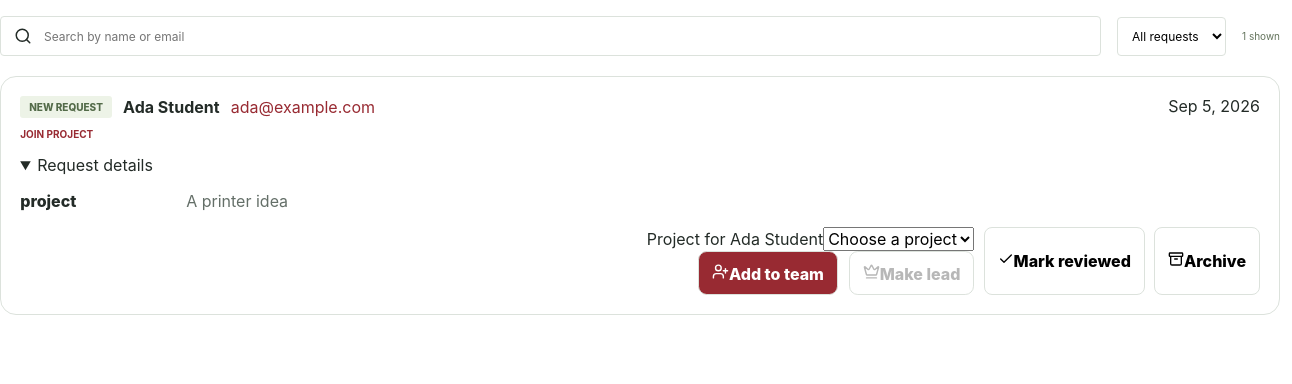
does not guess the project for unmatched interest and keeps failed approvals available
The image size is (1292, 384).
Expected: the button "Add to team" is disabled, x1=698 y1=251 x2=838 y2=295
Select "Printer repair" in the dropdown labelled "Project for Ada Student" at [899, 239], box x1=823 y1=227 x2=974 y2=251
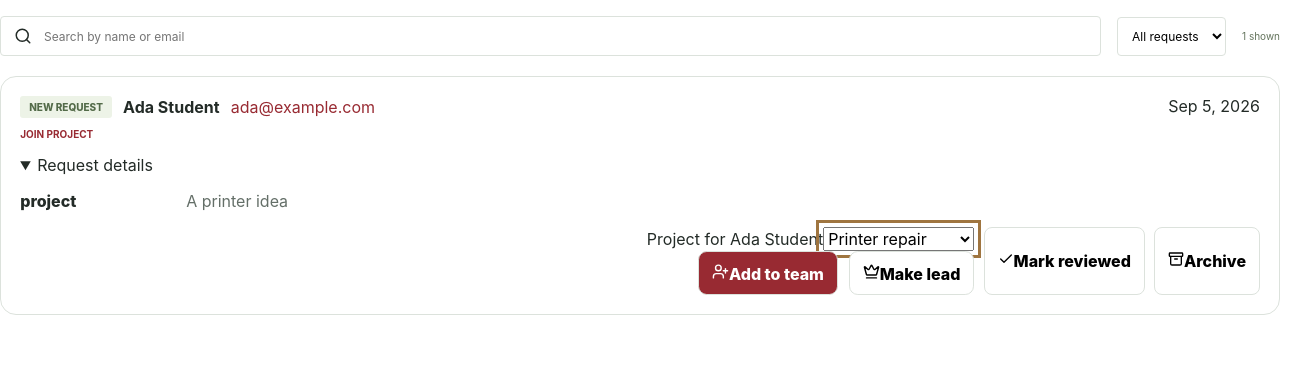
Click the button "Add to team" at [768, 273], box x1=698 y1=251 x2=838 y2=295
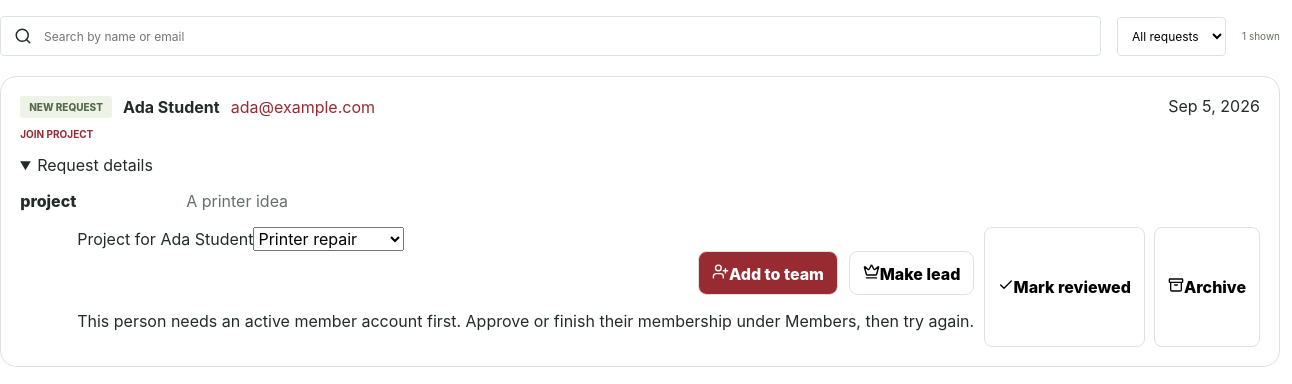
Now the 2nd message shows "needs an active member account first", box x1=77 y1=311 x2=974 y2=331
